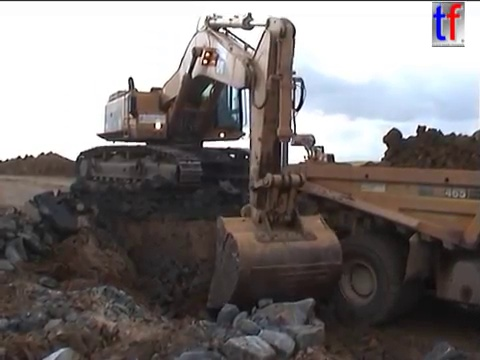excavator: (72, 9, 347, 316)
truck: (275, 158, 480, 327)
wheel loader: (288, 130, 339, 172)
